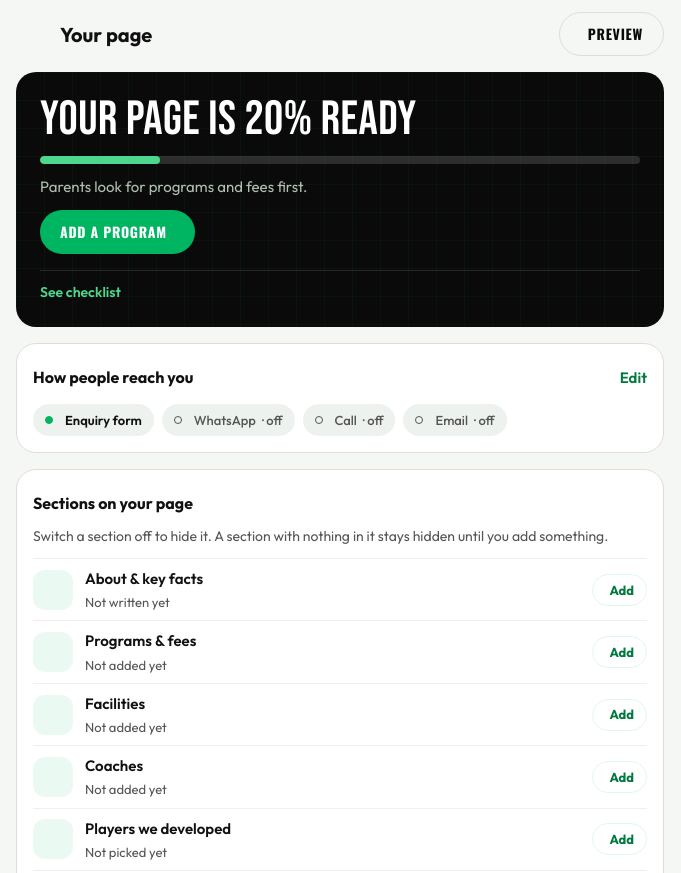
Scenario: The readiness card › keeps the checklist folded until asked
Click the button "See checklist" at (82, 293), box 40,271 -> 125,315
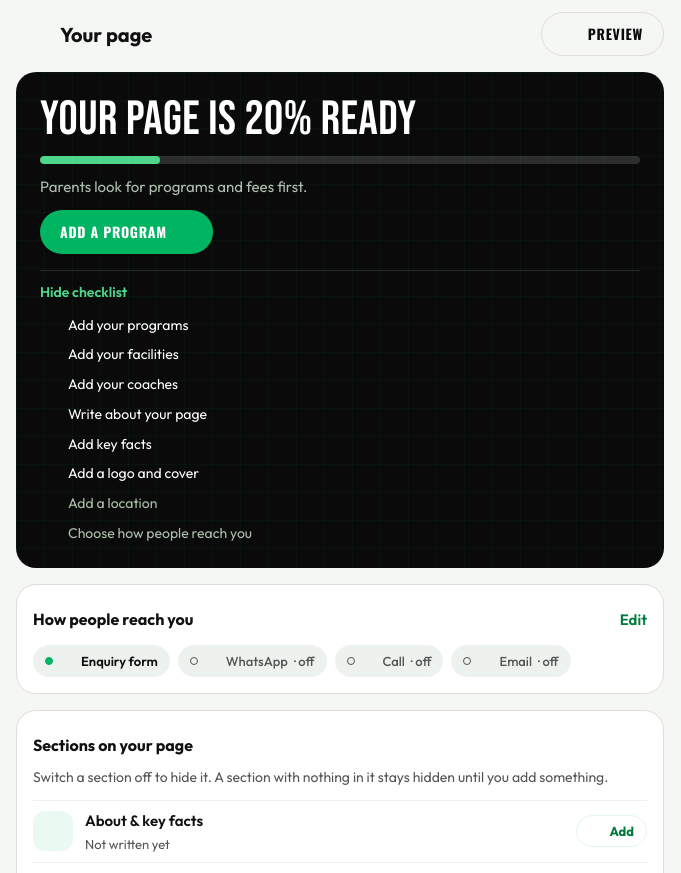
Now the button named "See checklist" is expanded, box 40,271 -> 149,315
Now the text "Add a location" is shown, box 68,493 -> 157,515
